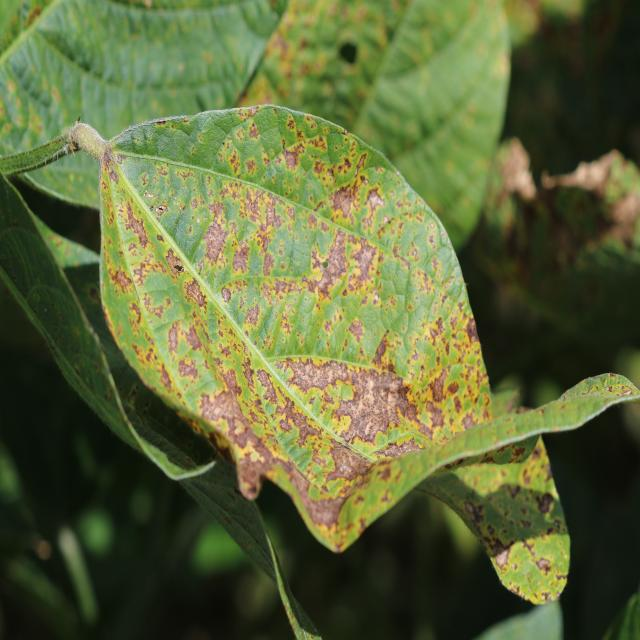Bacterial_Blight: (328, 364, 414, 444), (196, 374, 267, 467), (277, 391, 326, 448), (302, 255, 348, 307), (200, 218, 231, 269), (122, 202, 150, 250), (253, 217, 277, 257), (331, 185, 358, 219), (241, 189, 267, 224), (179, 319, 203, 353), (165, 248, 188, 281), (184, 278, 207, 308), (112, 265, 133, 294), (427, 371, 446, 402), (232, 244, 250, 274), (207, 200, 227, 226), (177, 356, 198, 380), (255, 368, 275, 392), (281, 146, 299, 171), (348, 319, 365, 341), (245, 306, 259, 326)
Soybean: (61, 105, 640, 609)
